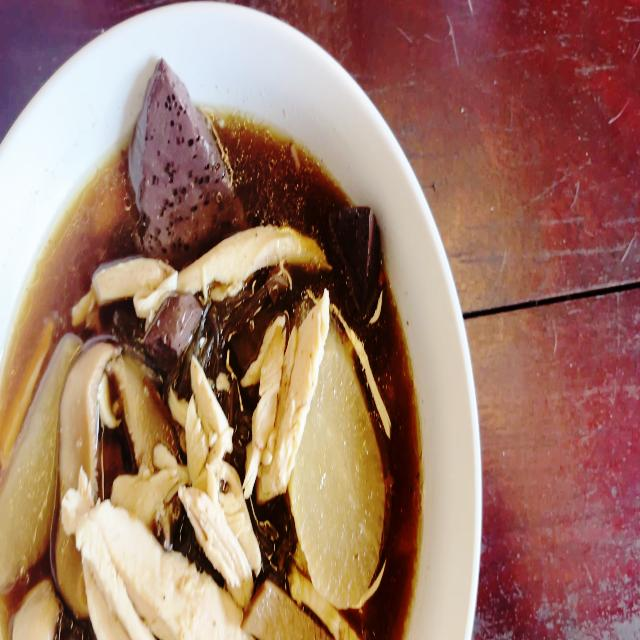boiled_chicken_blood_jelly: (137, 70, 234, 254), (323, 211, 379, 311), (150, 298, 205, 370)
chicken_shredded: (75, 486, 227, 640), (241, 297, 333, 510), (176, 370, 250, 573), (97, 250, 331, 292)
daikon_radish: (310, 366, 376, 592), (2, 344, 56, 563)
noodle: (0, 107, 421, 640)
